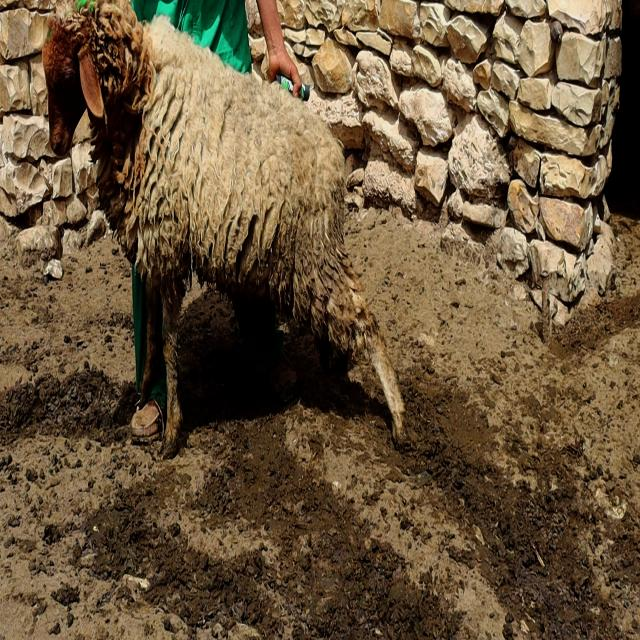Score_2: (42, 0, 406, 456)
